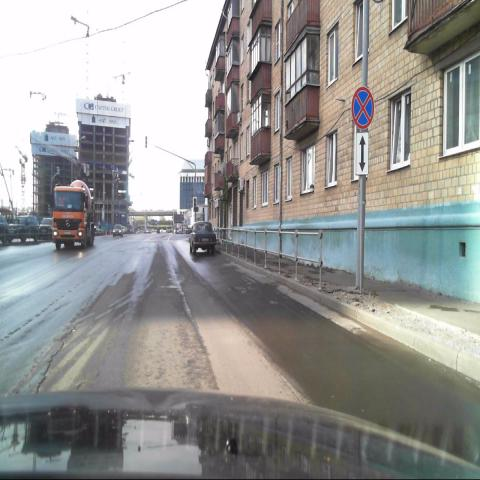8_2_4: (356, 129, 370, 178)
